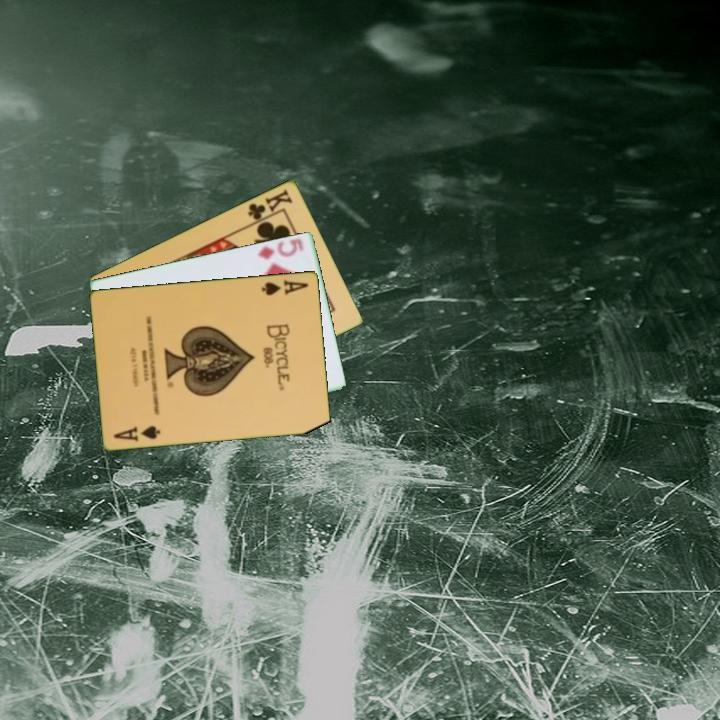5d: (254, 234, 306, 262)
As: (110, 422, 164, 444), (258, 276, 311, 298)
Kc: (244, 185, 295, 227)
